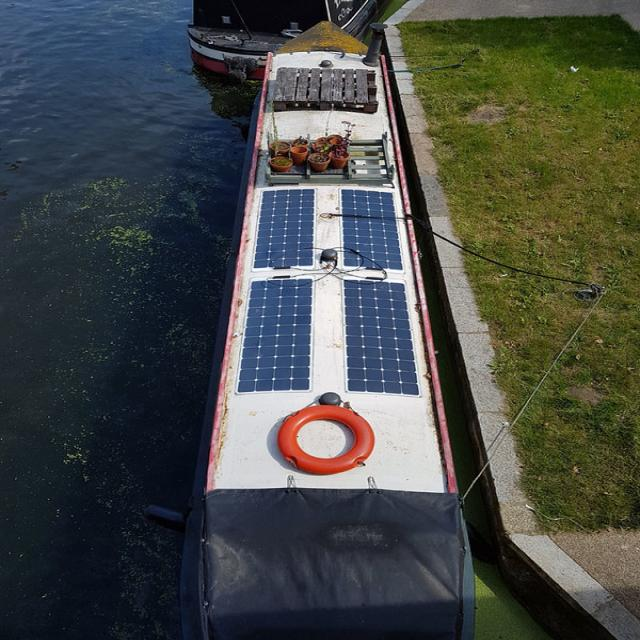clean-solar-panel: (346, 280, 418, 395), (239, 279, 311, 392), (253, 191, 315, 267), (344, 189, 401, 270)
